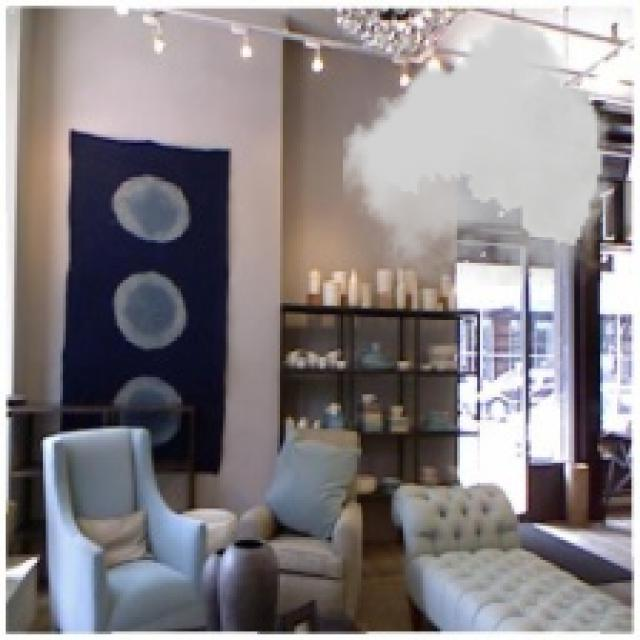smoke: (343, 20, 614, 286)
